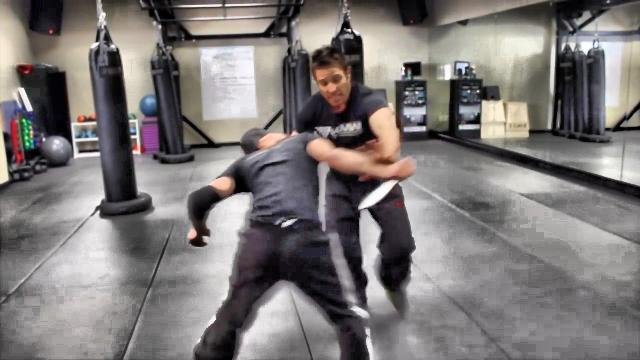knife: (354, 156, 416, 212)
